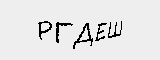Г: (54, 20, 72, 42)
Д: (71, 22, 93, 48)
Е: (93, 21, 107, 41)
Р: (37, 20, 52, 39)
Ш: (106, 19, 124, 38)
